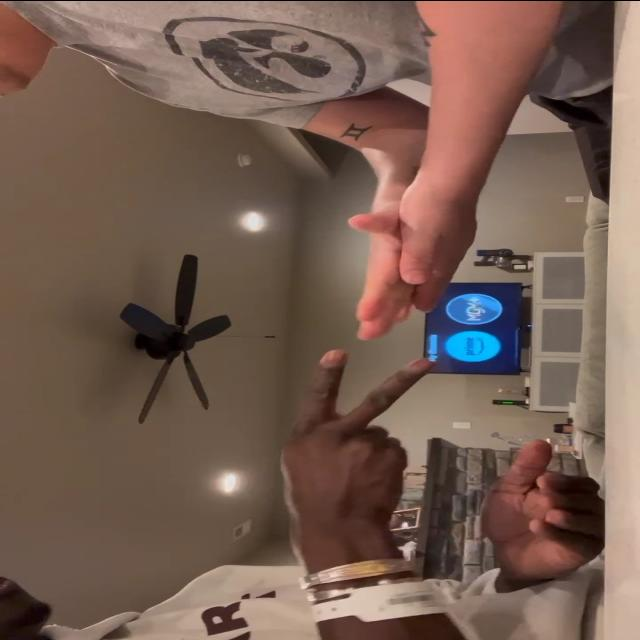Paper: (348, 184, 402, 338)
Scissors: (279, 348, 437, 516)
